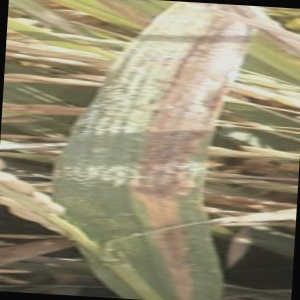Leaf_Blast: (90, 36, 210, 300)
